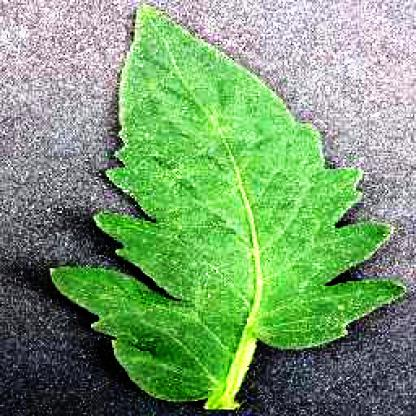Healthy: (45, 0, 408, 408)
